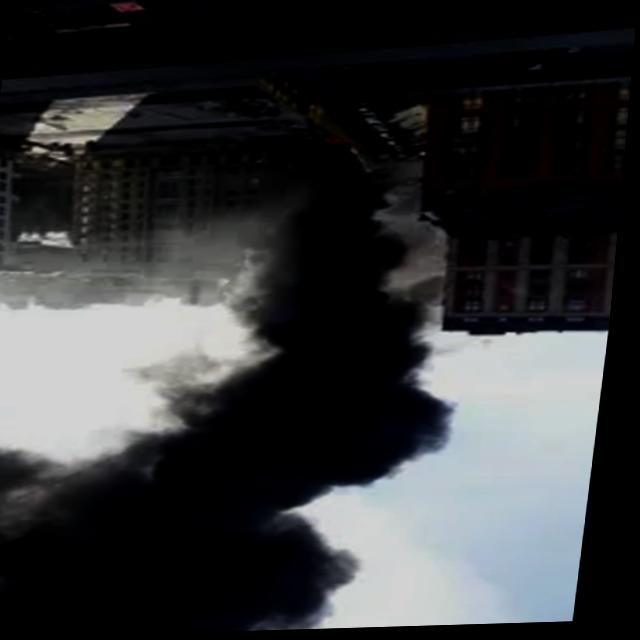Smoke: (0, 170, 487, 640)
